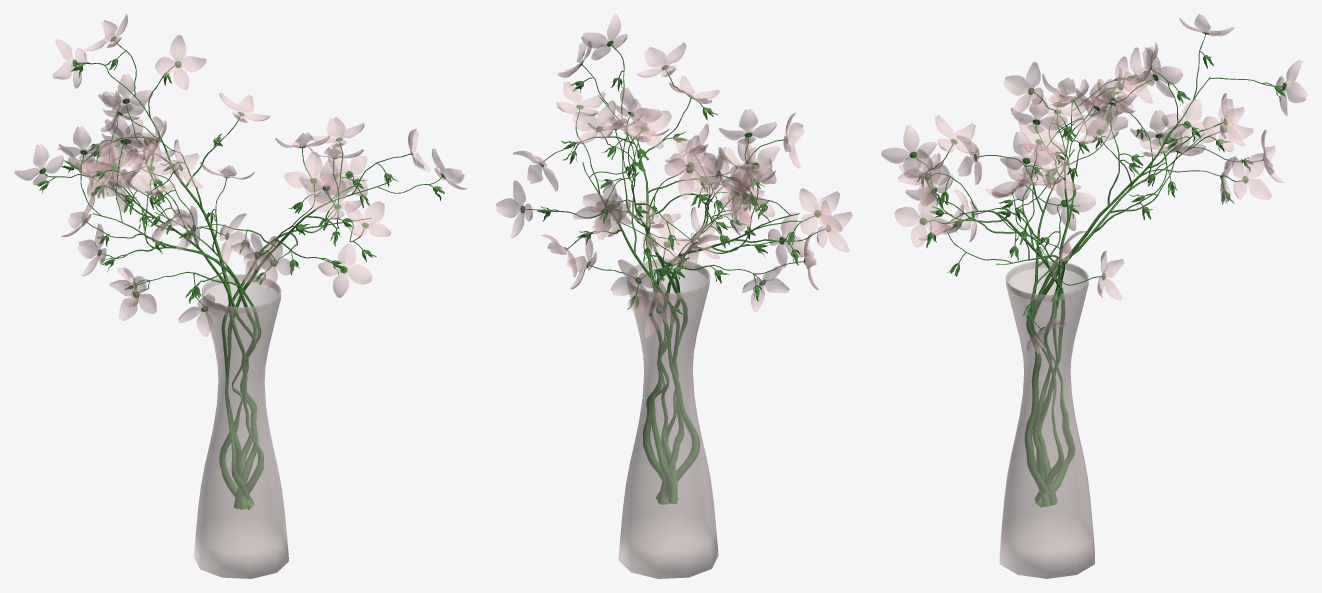
The model's file is flower_3.fbx.
3 renders of one model, left to right at view 1: azimuth 30°, elevation 25°; view 2: azimuth 150°, elevation 25°; view 3: azimuth 270°, elevation 25°, orthographic. The views are drawn at different scales.
Parts seen in each view (by area): view 1: nurbsToPoly1; view 2: nurbsToPoly1; view 3: nurbsToPoly1.
Part boxes in pixels (x1,y1,x2,y2): nurbsToPoly1: [14, 14, 467, 578]; nurbsToPoly1: [496, 14, 852, 578]; nurbsToPoly1: [881, 14, 1307, 578].
Bounding box in the file's own units: 289 × 412 × 304.
